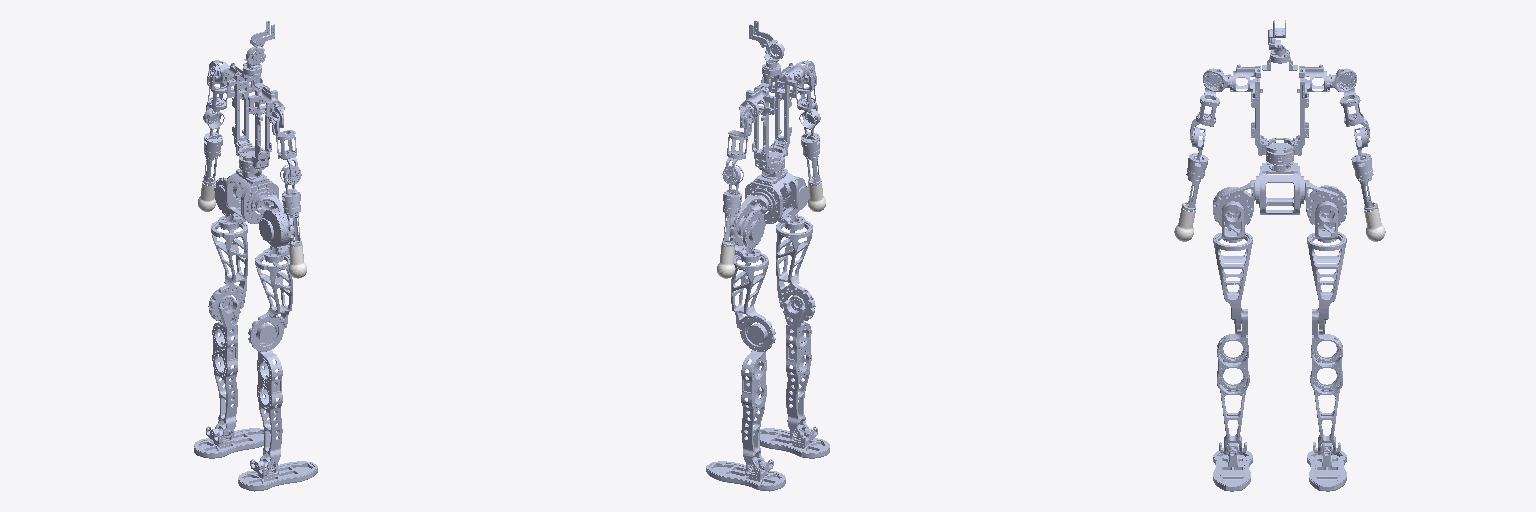
--- Facts derived from the render (not from the file) ---
Views: 3 orthographic renders of the robot side by side, from view 1: azimuth 30°, elevation 25°; view 2: azimuth 150°, elevation 25°; view 3: azimuth 270°, elevation 25°.
Robot: CB02_URDF(ECS-WK)-1 — 28 links, 27 joints (21 revolute, 6 fixed); root link base_link; default pose: all joints at 0.
Visible links, largest first — view 1: waist_yaw_link, left_leg_knee_pitch_link, right_leg_pelvic_yaw_link, right_leg_knee_pitch_link, left_leg_pelvic_yaw_link, base_link, right_leg_ankle_roll_link, left_leg_ankle_roll_link, right_leg_pelvic_pitch_link, left_elbow_pitch_link, right_elbow_pitch_link, right_shoulder_roll_link (+1 smaller); view 2: waist_yaw_link, right_leg_knee_pitch_link, left_leg_pelvic_yaw_link, left_leg_knee_pitch_link, right_leg_pelvic_yaw_link, base_link, left_leg_ankle_roll_link, right_leg_ankle_roll_link, left_leg_pelvic_pitch_link, right_elbow_pitch_link, left_elbow_pitch_link, left_shoulder_roll_link (+1 smaller); view 3: waist_yaw_link, right_leg_knee_pitch_link, left_leg_knee_pitch_link, base_link, left_leg_pelvic_yaw_link, right_leg_pelvic_yaw_link, left_leg_ankle_roll_link, right_leg_ankle_roll_link, left_leg_pelvic_pitch_link, right_leg_pelvic_pitch_link, left_leg_pelvic_roll_link, right_leg_pelvic_roll_link (+4 smaller).
Boxes of the visible links, x1,y1,x2,y2 form: waist_yaw_link: [221, 62, 284, 171]; left_leg_knee_pitch_link: [212, 295, 240, 438]; right_leg_pelvic_yaw_link: [248, 253, 292, 351]; right_leg_knee_pitch_link: [256, 323, 282, 470]; left_leg_pelvic_yaw_link: [208, 221, 247, 322]; base_link: [225, 169, 278, 223]; right_leg_ankle_roll_link: [238, 459, 317, 491]; left_leg_ankle_roll_link: [194, 426, 270, 458]; right_leg_pelvic_pitch_link: [252, 195, 293, 247]; left_elbow_pitch_link: [203, 108, 224, 156]; right_elbow_pitch_link: [280, 164, 301, 213]; right_shoulder_roll_link: [271, 112, 296, 158]; waist_yaw_link: [739, 63, 802, 171]; right_leg_knee_pitch_link: [783, 295, 811, 438]; left_leg_pelvic_yaw_link: [731, 253, 775, 351]; left_leg_knee_pitch_link: [741, 323, 767, 470]; right_leg_pelvic_yaw_link: [776, 221, 815, 322]; base_link: [745, 169, 798, 223]; left_leg_ankle_roll_link: [706, 459, 785, 491]; right_leg_ankle_roll_link: [753, 426, 829, 458]; left_leg_pelvic_pitch_link: [730, 195, 771, 248]; right_elbow_pitch_link: [799, 109, 820, 157]; left_elbow_pitch_link: [722, 165, 743, 213]; left_shoulder_roll_link: [727, 112, 752, 158]; waist_yaw_link: [1230, 49, 1329, 164]; right_leg_knee_pitch_link: [1217, 308, 1249, 454]; left_leg_knee_pitch_link: [1310, 308, 1342, 454]; base_link: [1256, 162, 1303, 214]; left_leg_pelvic_yaw_link: [1307, 232, 1346, 334]; right_leg_pelvic_yaw_link: [1213, 232, 1252, 334]; left_leg_ankle_roll_link: [1307, 442, 1346, 491]; right_leg_ankle_roll_link: [1213, 442, 1252, 491]; left_leg_pelvic_pitch_link: [1304, 180, 1346, 229]; right_leg_pelvic_pitch_link: [1213, 180, 1255, 229]; left_leg_pelvic_roll_link: [1315, 201, 1337, 239]; right_leg_pelvic_roll_link: [1222, 201, 1244, 239].
Size in the robot's own frame: 0.2748 by 0.6415 by 1.54 metres.
Meshes: 28 distinct files referenced, 28 mesh visuals loaded (28 binary STL).

robot.urdf — CB02_URDF(ECS-WK)-1:
<?xml version="1.0" encoding="utf-8"?>
<!-- This URDF was automatically created by SolidWorks to URDF Exporter! Originally created by Stephen Brawner ([email redacted]) 
     Commit Version: 1.6.0-4-g7f85cfe  Build Version: 1.6.7995.38578
     For more information, please see http://wiki.ros.org/sw_urdf_exporter -->
<robot
  name="CB02_URDF(ECS-WK)-1">
<mujoco>
  <compiler meshdir="../meshes/" balanceinertia="true" discardvisual="false"/>
</mujoco>
  <link
    name="base_link">
    <inertial>
      <origin
        xyz="-0.000299229538671325 -3.62047143596685E-06 0.0677725310109216"
        rpy="0 0 0" />
      <mass
        value="1.28818193551437" />
      <inertia
        ixx="0.00316690921128277"
        ixy="6.92856223060059E-07"
        ixz="4.77969590373017E-06"
        iyy="0.00402048593806444"
        iyz="7.46616920135298E-08"
        izz="0.00266586288994493" />
    </inertial>
    <visual>
      <origin
        xyz="0 0 0"
        rpy="0 0 0" />
      <geometry>
        <mesh
          filename="../meshes/base_link.STL" />
      </geometry>
      <material
        name="">
        <color
          rgba="0.792156862745098 0.819607843137255 0.933333333333333 1" />
      </material>
    </visual>
    <!-- <collision>
      <origin
        xyz="0 0 0"
        rpy="0 0 0" />
      <geometry>
        <mesh
          filename="../meshes/base_link.STL" />
      </geometry>
    </collision> -->
  </link>
  <link
    name="left_leg_pelvic_pitch_link">
    <inertial>
      <origin
        xyz="0.00415199717534158 0.0675309930364463 -0.0423445266545575"
        rpy="0 0 0" />
      <mass
        value="1.02810145292751" />
      <inertia
        ixx="0.00259245830022387"
        ixy="0.000206538814545208"
        ixz="-0.000148774269531376"
        iyy="0.00140327147782507"
        iyz="-0.000450861299617263"
        izz="0.00149796461534272" />
    </inertial>
    <visual>
      <origin
        xyz="0 0 0"
        rpy="0 0 0" />
      <geometry>
        <mesh
          filename="../meshes/left_leg_pelvic_pitch_link.STL" />
      </geometry>
      <material
        name="">
        <color
          rgba="0.792156862745098 0.819607843137255 0.933333333333333 1" />
      </material>
    </visual>
    <!-- <collision>
      <origin
        xyz="0 0 0"
        rpy="0 0 0" />
      <geometry>
        <mesh
          filename="../meshes/left_leg_pelvic_pitch_link.STL" />
      </geometry>
    </collision> -->
  </link>
  <joint
    name="left_leg_pelvic_pitch_joint"
    type="revolute">
    <origin
      xyz="0 0.061 0.0574999999999996"
      rpy="0 0 0" />
    <parent
      link="base_link" />
    <child
      link="left_leg_pelvic_pitch_link" />
    <axis
      xyz="0 1 0" />
    <limit
      lower="-1.9199"
      upper="1.5708"
      effort="200"
      velocity="14" />
  </joint>
  <link
    name="left_leg_pelvic_roll_link">
    <inertial>
      <origin
        xyz="0.0339552534167787 2.16783663888609E-05 -0.0448299281789375"
        rpy="0 0 0" />
      <mass
        value="0.463419741183663" />
      <inertia
        ixx="0.000999931372159789"
        ixy="-1.8828872947419E-07"
        ixz="0.000201327552606785"
        iyy="0.0010049761736978"
        iyz="-5.97979954945496E-06"
        izz="0.000395076332649214" />
    </inertial>
    <visual>
      <origin
        xyz="0 0 0"
        rpy="0 0 0" />
      <geometry>
        <mesh
          filename="../meshes/left_leg_pelvic_roll_link.STL" />
      </geometry>
      <material
        name="">
        <color
          rgba="0.792156862745098 0.819607843137255 0.933333333333333 1" />
      </material>
    </visual>
    <collision>
      <origin
        xyz="0 0 0"
        rpy="0 0 0" />
      <geometry>
        <mesh
          filename="../meshes/left_leg_pelvic_roll_link.STL" />
      </geometry>
    </collision>
  </link>
  <joint
    name="left_leg_pelvic_roll_joint"
    type="revolute">
    <origin
      xyz="-0.00280000000000061 0.0815 -0.0550000000000001"
      rpy="0 0 0" />
    <parent
      link="left_leg_pelvic_pitch_link" />
    <child
      link="left_leg_pelvic_roll_link" />
    <axis
      xyz="1 0 0" />
    <limit
      lower="-0.17453"
      upper="1.5708"
      effort="200"
      velocity="14" />
  </joint>
  <link
    name="left_leg_pelvic_yaw_link">
    <inertial>
      <origin
        xyz="-0.000136305888499362 -0.00590223552356739 -0.158219515661167"
        rpy="0 0 0" />
      <mass
        value="3.92267293403735" />
      <inertia
        ixx="0.0394236470729534"
        ixy="0.000272894500200854"
        ixz="0.00208164090542722"
        iyy="0.041421253945695"
        iyz="0.00239215153271086"
        izz="0.00723706080863267" />
    </inertial>
    <visual>
      <origin
        xyz="0 0 0"
        rpy="0 0 0" />
      <geometry>
        <mesh
          filename="../meshes/left_leg_pelvic_yaw_link.STL" />
      </geometry>
      <material
        name="">
        <color
          rgba="0.792156862745098 0.819607843137255 0.933333333333333 1" />
      </material>
    </visual>
    <collision>
      <origin
        xyz="0 0 0"
        rpy="0 0 0" />
      <geometry>
        <mesh
          filename="../meshes/left_leg_pelvic_yaw_link.STL" />
      </geometry>
    </collision>
  </link>
  <joint
    name="left_leg_pelvic_yaw_joint"
    type="revolute">
    <origin
      xyz="0 0 -0.0975000000000059"
      rpy="0 0 0" />
    <parent
      link="left_leg_pelvic_roll_link" />
    <child
      link="left_leg_pelvic_yaw_link" />
    <axis
      xyz="0 0 1" />
    <limit
      lower="-1.5708"
      upper="1.5708"
      effort="110"
      velocity="14" />
  </joint>
  <link
    name="left_leg_knee_pitch_link">
    <inertial>
      <origin
        xyz="0.00493576863344474 -0.00709173150506062 -0.201241298110284"
        rpy="0 0 0" />
      <mass
        value="3.70179178417344" />
      <inertia
        ixx="0.0691672037608606"
        ixy="7.28789236085487E-05"
        ixz="-0.00228272523363831"
        iyy="0.0669937646599967"
        iyz="-0.00429349893012385"
        izz="0.00387245136575241" />
    </inertial>
    <visual>
      <origin
        xyz="0 0 0"
        rpy="0 0 0" />
      <geometry>
        <mesh
          filename="../meshes/left_leg_knee_pitch_link.STL" />
      </geometry>
      <material
        name="">
        <color
          rgba="0.792156862745098 0.819607843137255 0.933333333333333 1" />
      </material>
    </visual>
    <!-- <collision>
      <origin
        xyz="0 0 0"
        rpy="0 0 0" />
      <geometry>
        <mesh
          filename="../meshes/left_leg_knee_pitch_link.STL" />
      </geometry>
    </collision> -->
    <collision>
      <origin xyz="0.0 0.001 -0.18" rpy="0 0 0"/>
      <geometry>
        <box size="0.05 0.07 0.19"/>
      </geometry>
    </collision>
    <collision>
      <origin xyz="0.02 0.00 -0.35" rpy="0 0 0"/>
      <geometry>
        <box size="0.03 0.06 0.1"/>
      </geometry>
    </collision>
  </link>
  <joint
    name="left_leg_knee_pitch_joint"
    type="revolute">
    <origin
      xyz="-0.0200000000000002 0 -0.273499999999999"
      rpy="0 0 0" />
    <parent
      link="left_leg_pelvic_yaw_link" />
    <child
      link="left_leg_knee_pitch_link" />
    <axis
      xyz="0 1 0" />
    <limit
      lower="0"
      upper="2.5307"
      effort="200"
      velocity="14" />
  </joint>
  <link
    name="left_leg_ankle_pitch_link">
    <inertial>
      <origin
        xyz="1.5259977656501E-10 -3.63095623931442E-06 9.77516068090267E-10"
        rpy="0 0 0" />
      <mass
        value="0.0573757039077953" />
      <inertia
        ixx="1.40830804022268E-05"
        ixy="-1.14832886337571E-12"
        ixz="-3.93273685825358E-15"
        iyy="8.16516434684493E-06"
        iyz="-5.93396292117414E-15"
        izz="9.60484955452434E-06" />
    </inertial>
    <visual>
      <origin
        xyz="0 0 0"
        rpy="0 0 0" />
      <geometry>
        <mesh
          filename="../meshes/left_leg_ankle_pitch_link.STL" />
      </geometry>
      <material
        name="">
        <color
          rgba="0.792156862745098 0.819607843137255 0.933333333333333 1" />
      </material>
    </visual>
    <!-- <collision>
      <origin
        xyz="0 0 0"
        rpy="0 0 0" />
      <geometry>
        <mesh
          filename="../meshes/left_leg_ankle_pitch_link.STL" />
      </geometry>
    </collision> -->
  </link>
  <joint
    name="left_leg_ankle_pitch_joint"
    type="revolute">
    <origin
      xyz="0 0 -0.453000000000091"
      rpy="0 0 0" />
    <parent
      link="left_leg_knee_pitch_link" />
    <child
      link="left_leg_ankle_pitch_link" />
    <axis
      xyz="0 1 0" />
    <limit
      lower="-0.87266"
      upper="0.50614"
      effort="100"
      velocity="14" />
  </joint>
  <link
    name="left_leg_ankle_roll_link">
    <inertial>
      <origin
        xyz="0.026746 0.0014465 -0.050585"
        rpy="0 0 0" />
      <mass
        value="0.84968" />
      <inertia
        ixx="0.00087779"
        ixy="8.3902E-05"
        ixz="-1.5511E-05"
        iyy="0.0044315"
        iyz="2.071E-07"
        izz="0.0052251" />
    </inertial>
    <visual>
      <origin
        xyz="0 0 0"
        rpy="0 0 0" />
      <geometry>
        <mesh
          filename="../meshes/left_leg_ankle_roll_link.STL" />
      </geometry>
      <material
        name="">
        <color
          rgba="0.79216 0.81961 0.93333 1" />
      </material>
    </visual>
    <!-- <collision>
      <origin
        xyz="0 0 0"
        rpy="0 0 0" />
      <geometry>
        <mesh
          filename="../meshes/left_leg_ankle_roll_link.STL" />
      </geometry>
    </collision> -->
    <collision>
      <origin
        xyz="0.03 0 -0.05"
        rpy="0 0 0" />
      <geometry>
        <box size="0.23 0.08 0.02" />
      </geometry>
    </collision>
  </link>
  <joint
    name="left_leg_ankle_roll_joint"
    type="revolute">
    <origin
      xyz="0 0 0"
      rpy="0 0 0" />
    <parent
      link="left_leg_ankle_pitch_link" />
    <child
      link="left_leg_ankle_roll_link" />
    <axis
      xyz="1 0 0" />
    <limit
      lower="-0.50614"
      upper="0.50614"
      effort="100"
      velocity="14" />
  </joint>
  <link
    name="right_leg_pelvic_pitch_link">
    <inertial>
      <origin
        xyz="0.00726567129464715 -0.0731362644570799 -0.047417234005796"
        rpy="0 0 0" />
      <mass
        value="1.71831066939471" />
      <inertia
        ixx="0.00393694868879678"
        ixy="-0.000206670737854624"
        ixz="-0.000148880809322412"
        iyy="0.00214229170405629"
        iyz="0.000450120067182824"
        izz="0.00224860958359422" />
    </inertial>
    <visual>
      <origin
        xyz="0 0 0"
        rpy="0 0 0" />
      <geometry>
        <mesh
          filename="../meshes/right_leg_pelvic_pitch_link.STL" />
      </geometry>
      <material
        name="">
        <color
          rgba="0.792156862745098 0.819607843137255 0.933333333333333 1" />
      </material>
    </visual>
    <!-- <collision>
      <origin
        xyz="0 0 0"
        rpy="0 0 0" />
      <geometry>
        <mesh
          filename="../meshes/right_leg_pelvic_pitch_link.STL" />
      </geometry>
    </collision> -->
  </link>
  <joint
    name="right_leg_pelvic_pitch_joint"
    type="revolute">
    <origin
      xyz="0 -0.0609999999999999 0.0575000000000002"
      rpy="0 0 0" />
    <parent
      link="base_link" />
    <child
      link="right_leg_pelvic_pitch_link" />
    <axis
      xyz="0 1 0" />
    <limit
      lower="-1.9199"
      upper="1.5708"
      effort="200"
      velocity="14" />
  </joint>
  <link
    name="right_leg_pelvic_roll_link">
    <inertial>
      <origin
        xyz="0.0339552534167782 2.16783663878339E-05 -0.0448299281789417"
        rpy="0 0 0" />
      <mass
        value="0.463419741183666" />
      <inertia
        ixx="0.000999931372159792"
        ixy="-1.88288729475105E-07"
        ixz="0.000201327552606789"
        iyy="0.0010049761736978"
        iyz="-5.97979954945681E-06"
        izz="0.000395076332649218" />
    </inertial>
    <visual>
      <origin
        xyz="0 0 0"
        rpy="0 0 0" />
      <geometry>
        <mesh
          filename="../meshes/right_leg_pelvic_roll_link.STL" />
      </geometry>
      <material
        name="">
        <color
          rgba="0.792156862745098 0.819607843137255 0.933333333333333 1" />
      </material>
    </visual>
    <collision>
      <origin
        xyz="0 0 0"
        rpy="0 0 0" />
      <geometry>
        <mesh
          filename="../meshes/right_leg_pelvic_roll_link.STL" />
      </geometry>
    </collision>
  </link>
  <joint
    name="right_leg_pelvic_roll_joint"
    type="revolute">
    <origin
      xyz="-0.0028000000000013 -0.0814999999999976 -0.0549999999999963"
      rpy="0 0 0" />
    <parent
      link="right_leg_pelvic_pitch_link" />
    <child
      link="right_leg_pelvic_roll_link" />
    <axis
      xyz="1 0 0" />
    <limit
      lower="-1.5708"
      upper="0.17453"
      effort="200"
      velocity="14" />
  </joint>
  <link
    name="right_leg_pelvic_yaw_link">
    <inertial>
      <origin
        xyz="-0.000136621018023519 0.00610545194401305 -0.15822009503971"
        rpy="0 0 0" />
      <mass
        value="4.00564660690577" />
      <inertia
        ixx="0.0402471506744927"
        ixy="-0.00031695021367323"
        ixz="0.00212548860780222"
        iyy="0.0422973565133956"
        iyz="-0.00232823769342471"
        izz="0.00737984648109567" />
    </inertial>
    <visual>
      <origin
        xyz="0 0 0"
        rpy="0 0 0" />
      <geometry>
        <mesh
          filename="../meshes/right_leg_pelvic_yaw_link.STL" />
      </geometry>
      <material
        name="">
        <color
          rgba="0.792156862745098 0.819607843137255 0.933333333333333 1" />
      </material>
    </visual>
    <collision>
      <origin
        xyz="0 0 0"
        rpy="0 0 0" />
      <geometry>
        <mesh
          filename="../meshes/right_leg_pelvic_yaw_link.STL" />
      </geometry>
    </collision>
  </link>
  <joint
    name="right_leg_pelvic_yaw_joint"
    type="revolute">
    <origin
      xyz="0 0 -0.0975000000000075"
      rpy="0 0 0" />
    <parent
      link="right_leg_pelvic_roll_link" />
    <child
      link="right_leg_pelvic_yaw_link" />
    <axis
      xyz="0 0 1" />
    <limit
      lower="-1.5708"
      upper="1.5708"
      effort="110"
      velocity="14" />
  </joint>
  <link
    name="right_leg_knee_pitch_link">
    <inertial>
      <origin
        xyz="0.00493554878574887 0.00709174155723893 -0.201240554636402"
        rpy="0 0 0" />
      <mass
        value="1.24759478576868" />
      <inertia
        ixx="0.0233109164242657"
        ixy="-2.45577642316228E-05"
        ixz="-0.000769314099587234"
        iyy="0.0225784148335157"
        iyz="0.00144700233126429"
        izz="0.00130510213303884" />
    </inertial>
    <visual>
      <origin
        xyz="0 0 0"
        rpy="0 0 0" />
      <geometry>
        <mesh
          filename="../meshes/right_leg_knee_pitch_link.STL" />
      </geometry>
      <material
        name="">
        <color
          rgba="0.792156862745098 0.819607843137255 0.933333333333333 1" />
      </material>
    </visual>
    <!-- <collision>
      <origin
        xyz="0 0 0"
        rpy="0 0 0" />
      <geometry>
        <mesh
          filename="../meshes/right_leg_knee_pitch_link.STL" />
      </geometry>
    </collision> -->
    <collision>
      <origin xyz="0.0 -0.001 -0.18" rpy="0 0 0"/>
      <geometry>
        <box size="0.05 0.07 0.19"/>
      </geometry>
    </collision>
    <collision>
      <origin xyz="0.02 0.00 -0.35" rpy="0 0 0"/>
      <geometry>
        <box size="0.03 0.06 0.1"/>
      </geometry>
    </collision>
  </link>
  <joint
    name="right_leg_knee_pitch_joint"
    type="revolute">
    <origin
      xyz="-0.0200000000000365 0 -0.273500000000063"
      rpy="0 0 0" />
    <parent
      link="right_leg_pelvic_yaw_link" />
    <child
      link="right_leg_knee_pitch_link" />
    <axis
      xyz="0 1 0" />
    <limit
      lower="0"
      upper="2.5307"
      effort="200"
      velocity="14" />
  </joint>
  <link
    name="right_leg_ankle_pitch_link">
    <inertial>
      <origin
        xyz="1.52599637787132E-10 -3.63095623934218E-06 9.77515957067965E-10"
        rpy="0 0 0" />
      <mass
        value="0.0573757039077936" />
      <inertia
        ixx="1.40830804022267E-05"
        ixy="-1.14832884733411E-12"
        ixz="-3.93251081621409E-15"
        iyy="8.16516434684486E-06"
        iyz="-5.93395719766627E-15"
        izz="9.60484955452411E-06" />
    </inertial>
    <visual>
      <origin
        xyz="0 0 0"
        rpy="0 0 0" />
      <geometry>
        <mesh
          filename="../meshes/right_leg_ankle_pitch_link.STL" />
      </geometry>
      <material
        name="">
        <color
          rgba="0.792156862745098 0.819607843137255 0.933333333333333 1" />
      </material>
    </visual>
    <!-- <collision>
      <origin
        xyz="0 0 0"
        rpy="0 0 0" />
      <geometry>
        <mesh
          filename="../meshes/right_leg_ankle_pitch_link.STL" />
      </geometry>
    </collision> -->
  </link>
  <joint
    name="right_leg_ankle_pitch_joint"
    type="revolute">
    <origin
      xyz="0 0 -0.45300000000003"
      rpy="0 0 0" />
    <parent
      link="right_leg_knee_pitch_link" />
    <child
      link="right_leg_ankle_pitch_link" />
    <axis
      xyz="0 1 0" />
    <limit
      lower="-0.87266"
      upper="0.50614"
      effort="100"
      velocity="14" />
  </joint>
  <link
    name="right_leg_ankle_roll_link">
    <inertial>
      <origin
        xyz="0.026743 -0.0014476 -0.050585"
        rpy="0 0 0" />
      <mass
        value="0.84963" />
      <inertia
        ixx="0.00087771"
        ixy="-8.3823E-05"
        ixz="-1.5504E-05"
        iyy="0.0044312"
        iyz="-2.1927E-07"
        izz="0.0052247" />
    </inertial>
    <visual>
      <origin
        xyz="0 0 0"
        rpy="0 0 0" />
      <geometry>
        <mesh
          filename="../meshes/right_leg_ankle_roll_link.STL" />
      </geometry>
      <material
        name="">
        <color
          rgba="0.79216 0.81961 0.93333 1" />
      </material>
    </visual>
    <!-- <collision>
      <origin
        xyz="0 0 0"
        rpy="0 0 0" />
      <geometry>
        <mesh
          filename="../meshes/right_leg_ankle_roll_link.STL" />
      </geometry>
    </collision> -->
    <collision>
      <origin
        xyz="0.03 0 -0.05"
        rpy="0 0 0" />
      <geometry>
        <box size="0.23 0.08 0.02" />
      </geometry>
    </collision>
  </link>
  <joint
    name="right_leg_ankle_roll_joint"
    type="revolute">
    <origin
      xyz="0 0 0"
      rpy="0 0 0" />
    <parent
      link="right_leg_ankle_pitch_link" />
    <child
      link="right_leg_ankle_roll_link" />
    <axis
      xyz="1 0 0" />
    <limit
      lower="-0.50614"
      upper="0.50614"
      effort="100"
      velocity="14" />
  </joint>
  <link
    name="waist_yaw_link">
    <inertial>
      <origin
        xyz="0.000130975729590561 5.81562727818721E-05 0.149702237906225"
        rpy="0 0 0" />
      <mass
        value="13.9790042253896" />
      <inertia
        ixx="0.0479343229089796"
        ixy="1.68610154597791E-08"
        ixz="-3.52743438368736E-05"
        iyy="0.0475353024914455"
        iyz="1.89862120412491E-05"
        izz="0.0121785212445957" />
    </inertial>
    <visual>
      <origin
        xyz="0 0 0"
        rpy="0 0 0" />
      <geometry>
        <mesh
          filename="../meshes/waist_yaw_link.STL" />
      </geometry>
      <material
        name="">
        <color
          rgba="0.792156862745098 0.819607843137255 0.933333333333333 1" />
      </material>
    </visual>
    <!-- <collision>
      <origin
        xyz="0 0 0"
        rpy="0 0 0" />
      <geometry>
        <mesh
          filename="../meshes/waist_yaw_link.STL" />
      </geometry>
    </collision> -->
    <collision>
      <origin
        xyz="0.0 0 0.12"
        rpy="0 0 0" />
      <geometry>
        <box size="0.15 0.2 0.3" />
      </geometry>
    </collision>
  </link>
  <joint
    name="waist_yaw_joint"
    type="revolute">
    <origin
      xyz="0 0 0.154238635424338"
      rpy="0 0 0" />
    <parent
      link="base_link" />
    <child
      link="waist_yaw_link" />
    <axis
      xyz="0 0 -1" />
    <limit
      lower="-1.5708"
      upper="1.5708"
      effort="100"
      velocity="14" />
  </joint>
  <link
    name="head_yaw_link">
    <inertial>
      <origin
        xyz="-0.00078261750157486 -0.0155152746638738 0.0308213534764317"
        rpy="0 0 0" />
      <mass
        value="0.0797810246710037" />
      <inertia
        ixx="5.09072412613172E-05"
        ixy="1.14871329470101E-07"
        ixz="-4.53051948435109E-06"
        iyy="6.4003616577122E-05"
        iyz="-1.30437072443571E-05"
        izz="3.75298494058182E-05" />
    </inertial>
    <visual>
      <origin
        xyz="0 0 0"
        rpy="0 0 0" />
      <geometry>
        <mesh
          filename="../meshes/head_yaw_link.STL" />
      </geometry>
      <material
        name="">
        <color
          rgba="0.792156862745098 0.819607843137255 0.933333333333333 1" />
      </material>
    </visual>
    <collision>
      <origin
        xyz="0 0 0"
        rpy="0 0 0" />
      <geometry>
        <mesh
          filename="../meshes/head_yaw_link.STL" />
      </geometry>
    </collision>
  </link>
  <joint
    name="head_yaw_joint"
    type="fixed">
    <origin
      xyz="0 0 0.362300000000225"
      rpy="0 0 0" />
    <parent
      link="waist_yaw_link" />
    <child
      link="head_yaw_link" />
    <axis
      xyz="0 0 1" />
    <limit
      lower="-1.5708"
      upper="1.5708"
      effort="60"
      velocity="14" />
  </joint>
  <link
    name="head_pitch_link">
    <inertial>
      <origin
        xyz="0.0245170340311457 -0.00968261807779861 0.0340309435450875"
        rpy="0 0 0" />
      <mass
        value="0.473264225353606" />
      <inertia
        ixx="0.00018500094793612"
        ixy="2.10005092713277E-05"
        ixz="6.51575155191851E-05"
        iyy="0.000232274817193635"
        iyz="4.52688012621254E-05"
        izz="0.000195275991160167" />
    </inertial>
    <visual>
      <origin
        xyz="0 0 0"
        rpy="0 0 0" />
      <geometry>
        <mesh
          filename="../meshes/head_pitch_link.STL" />
      </geometry>
      <material
        name="">
        <color
          rgba="0.792156862745098 0.819607843137255 0.933333333333333 1" />
      </material>
    </visual>
    <collision>
      <origin
        xyz="0 0 0"
        rpy="0 0 0" />
      <geometry>
        <mesh
          filename="../meshes/head_pitch_link.STL" />
      </geometry>
    </collision>
  </link>
  <joint
    name="head_pitch_joint"
    type="fixed">
    <origin
      xyz="0 0 0.046"
      rpy="0 0 0" />
    <parent
      link="head_yaw_link" />
    <child
      link="head_pitch_link" />
    <axis
      xyz="0 1 0" />
    <limit
      lower="-0.2618"
      upper="0.5236"
      effort="60"
      velocity="14" />
  </joint>
  <link
    name="left_shoulder_pitch_link">
    <inertial>
      <origin
        xyz="-0.0102288981635855 0.036332751832787 0.000394674244794058"
        rpy="0 0 0" />
      <mass
        value="0.649287739116578" />
      <inertia
        ixx="0.000415915126086713"
        ixy="-6.22789916439101E-05"
        ixz="-3.51530250512302E-07"
        iyy="0.000283775504862817"
        iyz="-3.92499741198903E-06"
        izz="0.000311828240069111" />
    </inertial>
    <visual>
      <origin
        xyz="0 0 0"
        rpy="0 0 0" />
      <geometry>
        <mesh
          filename="../meshes/left_shoulder_pitch_link.STL" />
      </geometry>
      <material
        name="">
        <color
          rgba="0.792156862745098 0.819607843137255 0.933333333333333 1" />
      </material>
    </visual>
    <!-- <collision>
      <origin
        xyz="0 0 0"
        rpy="0 0 0" />
      <geometry>
        <mesh
          filename="../meshes/left_shoulder_pitch_link.STL" />
      </geometry>
    </collision> -->
  </link>
  <joint
    name="left_shoulder_pitch_joint"
    type="revolute">
    <origin
      xyz="0 0.14500020317258 0.267300000000226"
      rpy="0 0 0" />
    <parent
      link="waist_yaw_link" />
    <child
      link="left_shoulder_pitch_link" />
    <axis
      xyz="0 1 0" />
    <limit
      lower="-3.1416"
      upper="1.0472"
      effort="80"
      velocity="26" />
  </joint>
  <link
    name="left_shoulder_roll_link">
    <inertial>
      <origin
        xyz="-0.00770404081087766 -0.000683111095291983 -0.0786608503027241"
        rpy="0 0 0" />
      <mass
        value="0.195328921491811" />
      <inertia
        ixx="0.000158275107308962"
        ixy="7.47210832592629E-08"
        ixz="-2.59221063657642E-05"
        iyy="0.000185087021548126"
        iyz="3.31442954159944E-06"
        izz="0.000122583127501806" />
    </inertial>
    <visual>
      <origin
        xyz="0 0 0"
        rpy="0 0 0" />
      <geometry>
        <mesh
          filename="../meshes/left_shoulder_roll_link.STL" />
      </geometry>
      <material
        name="">
        <color
          rgba="0.792156862745098 0.819607843137255 0.933333333333333 1" />
      </material>
    </visual>
    <collision>
      <origin
        xyz="0 0 0"
        rpy="0 0 0" />
      <geometry>
        <mesh
          filename="../meshes/left_shoulder_roll_link.STL" />
      </geometry>
    </collision>
  </link>
  <joint
    name="left_shoulder_roll_joint"
    type="revolute">
    <origin
      xyz="0 0.057 0"
      rpy="0.1745 0 0" />
    <parent
      link="left_shoulder_pitch_link" />
    <child
      link="left_shoulder_roll_link" />
    <axis
      xyz="1 0 0" />
    <limit
      lower="-0.3491"
      upper="3.1416"
      effort="80"
      velocity="26" />
  </joint>
  <link
    name="left_shoulder_yaw_link">
    <inertial>
      <origin
        xyz="-4.41757350049006E-06 0.0210935070028324 -0.0276139730988554"
        rpy="0 0 0" />
      <mass
        value="0.0243504547014443" />
      <inertia
        ixx="1.73617720811823E-05"
        ixy="-1.79199844008269E-08"
        ixz="1.96437152688012E-08"
        iyy="1.42117709489993E-05"
        iyz="-4.91030664906597E-06"
        izz="7.93910941658811E-06" />
    </inertial>
    <visual>
      <origin
        xyz="0 0 0"
        rpy="0 0 0" />
      <geometry>
        <mesh
          filename="../meshes/left_shoulder_yaw_link.STL" />
      </geometry>
      <material
        name="">
        <color
          rgba="0.792156862745098 0.819607843137255 0.933333333333333 1" />
      </material>
    </visual>
    <collision>
      <origin
        xyz="0 0 0"
        rpy="0 0 0" />
      <geometry>
        <mesh
          filename="../meshes/left_shoulder_yaw_link.STL" />
      </geometry>
    </collision>
  </link>
  <joint
    name="left_shoulder_yaw_joint"
    type="revolute">
    <origin
      xyz="0 0 -0.1315"
      rpy="0 0 0" />
    <parent
      link="left_shoulder_roll_link" />
    <child
      link="left_shoulder_yaw_link" />
    <axis
      xyz="0 0 1" />
    <limit
      lower="-1.5708"
      upper="1.5708"
      effort="16"
      velocity="13.6" />
  </joint>
  <link
    name="left_elbow_pitch_link">
    <inertial>
      <origin
        xyz="1.6328064642989E-05 0.002971128311301 -0.082526184053724"
        rpy="0 0 0" />
      <mass
        value="0.435303751733877" />
      <inertia
        ixx="0.000149576804041486"
        ixy="-2.42022030866707E-08"
        ixz="-1.20075751804479E-07"
        iyy="0.000159118036175105"
        iyz="1.14124996330168E-05"
        izz="0.000171422877357619" />
    </inertial>
    <visual>
      <origin
        xyz="0 0 0"
        rpy="0 0 0" />
      <geometry>
        <mesh
          filename="../meshes/left_elbow_pitch_link.STL" />
      </geometry>
      <material
        name="">
        <color
          rgba="0.792156862745098 0.819607843137255 0.933333333333333 1" />
      </material>
    </visual>
    <collision>
      <origin
        xyz="0 0 0"
        rpy="0 0 0" />
      <geometry>
        <mesh
          filename="../meshes/left_elbow_pitch_link.STL" />
      </geometry>
    </collision>
  </link>
  <joint
    name="left_elbow_pitch_joint"
    type="revolute">
    <origin
      xyz="0 0 -0.0609999999999984"
      rpy="0 0 0" />
    <parent
      link="left_shoulder_yaw_link" />
    <child
      link="left_elbow_pitch_link" />
    <axis
      xyz="0 1 0" />
    <limit
      lower="-1.8675"
      upper="0"
      effort="80"
      velocity="26" />
  </joint>
  <link
    name="left_wrist_yaw_link">
    <inertial>
      <origin
        xyz="0.000185257071954116 -0.00334205486925238 -0.0396424773439387"
        rpy="0 0 0" />
      <mass
        value="0.124402127918901" />
      <inertia
        ixx="0.000126453951425612"
        ixy="-3.6745552452735E-07"
        ixz="9.49090983815282E-08"
        iyy="0.000133394903894484"
        iyz="-1.23101362709461E-06"
        izz="3.63793989816123E-05" />
    </inertial>
    <visual>
      <origin
        xyz="0 0 0"
        rpy="0 0 0" />
      <geometry>
        <mesh
          filename="../meshes/left_wrist_yaw_link.STL" />
      </geometry>
      <material
        name="">
        <color
          rgba="0.792156862745098 0.819607843137255 0.933333333333333 1" />
      </material>
    </visual>
    <collision>
      <origin
        xyz="0 0 0"
        rpy="0 0 0" />
      <geometry>
        <mesh
          filename="../meshes/left_wrist_yaw_link.STL" />
      </geometry>
    </collision>
  </link>
  <joint
    name="left_wrist_yaw_joint"
    type="fixed">
    <origin
      xyz="0 0 -0.131"
      rpy="0 0 0" />
    <parent
      link="left_elbow_pitch_link" />
    <child
      link="left_wrist_yaw_link" />
    <axis
      xyz="0 0 1" />
    <limit
      lower="-1.5708"
      upper="1.5708"
      effort="16"
      velocity="13.6" />
  </joint>
  <link
    name="left_hand_link">
    <inertial>
      <origin
        xyz="3.3309E-11 -7.701E-11 -0.062047"
        rpy="0 0 0" />
      <mass
        value="0.086038" />
      <inertia
        ixx="0.00011733"
        ixy="7.1943E-14"
        ixz="8.0962E-14"
        iyy="0.00011733"
        iyz="-3.1589E-13"
        izz="4.0681E-05" />
    </inertial>
    <visual>
      <origin
        xyz="0 0 0"
        rpy="0 0 0" />
      <geometry>
        <mesh
          filename="../meshes/left_hand_link.STL" />
      </geometry>
      <material
        name="">
        <color
          rgba="1 1 1 1" />
      </material>
    </visual>
    <collision>
      <origin
        xyz="0 0 0"
        rpy="0 0 0" />
      <geometry>
        <mesh
          filename="../meshes/left_hand_link.STL" />
      </geometry>
    </collision>
  </link>
  <joint
    name="left_hand_joint"
    type="fixed">
    <origin
      xyz="0 0 -0.1"
      rpy="0 0 0" />
    <parent
      link="left_wrist_yaw_link" />
    <child
      link="left_hand_link" />
    <axis
      xyz="0 0 -1" />
    <limit
      lower="0"
      upper="0"
      effort="0"
      velocity="0" />
  </joint>
  <link
    name="right_shoulder_pitch_link">
    <inertial>
      <origin
        xyz="-0.0101949007442382 -0.0363044687489536 0.000373545372716499"
        rpy="0 0 0" />
      <mass
        value="0.15551625340884" />
      <inertia
        ixx="9.96342405358781E-05"
        ixy="1.49105317436426E-05"
        ixz="-4.28186856772639E-08"
        iyy="6.79862472881885E-05"
        iyz="1.03484535611391E-06"
        izz="7.46534736176781E-05" />
    </inertial>
    <visual>
      <origin
        xyz="0 0 0"
        rpy="0 0 0" />
      <geometry>
        <mesh
          filename="../meshes/right_shoulder_pitch_link.STL" />
      </geometry>
      <material
        name="">
        <color
          rgba="0.792156862745098 0.819607843137255 0.933333333333333 1" />
      </material>
    </visual>
    <!-- <collision>
      <origin
        xyz="0 0 0"
        rpy="0 0 0" />
      <geometry>
        <mesh
          filename="../meshes/right_shoulder_pitch_link.STL" />
      </geometry>
    </collision> -->
  </link>
  <joint
    name="right_shoulder_pitch_joint"
    type="revolute">
    <origin
      xyz="0 -0.14499979682742 0.267300000000224"
      rpy="0 0 0" />
    <parent
      link="waist_yaw_link" />
    <child
      link="right_shoulder_pitch_link" />
    <axis
      xyz="0 1 0" />
    <limit
      lower="-3.1416"
      upper="1.0472"
      effort="80"
      velocity="26" />
  </joint>
  <link
    name="right_shoulder_roll_link">
    <inertial>
      <origin
        xyz="-0.00770403051599989 0.000639288818542638 -0.0786608502872567"
        rpy="0 0 0" />
      <mass
        value="0.195463682958999" />
      <inertia
        ixx="0.000158384304595977"
        ixy="7.47726334801112E-08"
        ixz="-2.59399595056499E-05"
        iyy="0.000185214716910364"
        iyz="-3.50783853348123E-06"
        izz="0.000122667700118889" />
    </inertial>
    <visual>
      <origin
        xyz="0 0 0"
        rpy="0 0 0" />
      <geometry>
        <mesh
          filename="../meshes/right_shoulder_roll_link.STL" />
      </geometry>
      <material
        name="">
        <color
          rgba="0.792156862745098 0.819607843137255 0.933333333333333 1" />
      </material>
    </visual>
    <collision>
      <origin
        xyz="0 0 0"
        rpy="0 0 0" />
      <geometry>
        <mesh
          filename="../meshes/right_shoulder_roll_link.STL" />
      </geometry>
    </collision>
  </link>
  <joint
    name="right_shoulder_roll_joint"
    type="revolute">
    <origin
      xyz="0 -0.057 0"
      rpy="-0.1745 0 0" />
    <parent
      link="right_shoulder_pitch_link" />
    <child
      link="right_shoulder_roll_link" />
    <axis
      xyz="1 0 0" />
    <limit
      lower="-3.1416"
      upper="0.3491"
      effort="80"
      velocity="26" />
  </joint>
  <link
    name="right_shoulder_yaw_link">
    <inertial>
      <origin
        xyz="4.41758497443084E-06 -0.0210935070120448 -0.0276139731176274"
        rpy="0 0 0" />
      <mass
        value="0.0243504547323869" />
      <inertia
        ixx="1.73617720918112E-05"
        ixy="-1.79199860744454E-08"
        ixz="-1.96437218684087E-08"
        iyy="1.42117709584661E-05"
        iyz="4.91030665301275E-06"
        izz="7.93910941972198E-06" />
    </inertial>
    <visual>
      <origin
        xyz="0 0 0"
        rpy="0 0 0" />
      <geometry>
        <mesh
          filename="../meshes/right_shoulder_yaw_link.STL" />
      </geometry>
      <material
        name="">
        <color
          rgba="0.792156862745098 0.819607843137255 0.933333333333333 1" />
      </material>
    </visual>
    <collision>
      <origin
        xyz="0 0 0"
        rpy="0 0 0" />
      <geometry>
        <mesh
          filename="../meshes/right_shoulder_yaw_link.STL" />
      </geometry>
    </collision>
  </link>
  <joint
    name="right_shoulder_yaw_joint"
    type="revolute">
    <origin
      xyz="0 0 -0.1315"
      rpy="0 0 0" />
    <parent
      link="right_shoulder_roll_link" />
    <child
      link="right_shoulder_yaw_link" />
    <axis
      xyz="0 0 1" />
    <limit
      lower="-1.5708"
      upper="1.5708"
      effort="16"
      velocity="13.6" />
  </joint>
  <link
    name="right_elbow_pitch_link">
    <inertial>
      <origin
        xyz="-1.63280647687261E-05 -0.00297112831130217 -0.0825261840537228"
        rpy="0 0 0" />
      <mass
        value="0.435399198132512" />
      <inertia
        ixx="0.000149609600835009"
        ixy="-2.42075097448209E-08"
        ixz="1.20102080103402E-07"
        iyy="0.000159152925016403"
        iyz="-1.14150019822043E-05"
        izz="0.000171460464206394" />
    </inertial>
    <visual>
      <origin
        xyz="0 0 0"
        rpy="0 0 0" />
      <geometry>
        <mesh
          filename="../meshes/right_elbow_pitch_link.STL" />
      </geometry>
      <material
        name="">
        <color
          rgba="0.792156862745098 0.819607843137255 0.933333333333333 1" />
      </material>
    </visual>
    <collision>
      <origin
        xyz="0 0 0"
        rpy="0 0 0" />
      <geometry>
        <mesh
          filename="../meshes/right_elbow_pitch_link.STL" />
      </geometry>
    </collision>
  </link>
  <joint
    name="right_elbow_pitch_joint"
    type="revolute">
    <origin
      xyz="0 0 -0.0610000000000009"
      rpy="0 0 0" />
    <parent
      link="right_shoulder_yaw_link" />
    <child
      link="right_elbow_pitch_link" />
    <axis
      xyz="0 1 0" />
    <limit
      lower="-1.8675"
      upper="0"
      effort="80"
      velocity="26" />
  </joint>
  <link
    name="right_wrist_yaw_link">
    <inertial>
      <origin
        xyz="-0.00018526 0.0033421 -0.042642"
        rpy="0 0 0" />
      <mass
        value="0.1244" />
      <inertia
        ixx="0.00012645"
        ixy="-3.6746E-07"
        ixz="-9.4909E-08"
        iyy="0.00013339"
        iyz="1.231E-06"
        izz="3.6379E-05" />
    </inertial>
    <visual>
      <origin
        xyz="0 0 0"
        rpy="0 0 0" />
      <geometry>
        <mesh
          filename="../meshes/right_wrist_yaw_link.STL" />
      </geometry>
      <material
        name="">
        <color
          rgba="0.79216 0.81961 0.93333 1" />
      </material>
    </visual>
    <collision>
      <origin
        xyz="0 0 0"
        rpy="0 0 0" />
      <geometry>
        <mesh
          filename="../meshes/right_wrist_yaw_link.STL" />
      </geometry>
    </collision>
  </link>
  <joint
    name="right_wrist_yaw_joint"
    type="fixed">
    <origin
      xyz="0 0 -0.128"
      rpy="0 0 0" />
    <parent
      link="right_elbow_pitch_link" />
    <child
      link="right_wrist_yaw_link" />
    <axis
      xyz="0 0 1" />
    <limit
      lower="-1.5708"
      upper="1.5708"
      effort="16"
      velocity="13.6" />
  </joint>
  <link
    name="right_hand_link">
    <inertial>
      <origin
        xyz="-3.2765E-11 7.7218E-11 -0.062047"
        rpy="0 0 0" />
      <mass
        value="0.086038" />
      <inertia
        ixx="0.00011733"
        ixy="7.2283E-14"
        ixz="-7.9053E-14"
        iyy="0.00011733"
        iyz="3.1639E-13"
        izz="4.0681E-05" />
    </inertial>
    <visual>
      <origin
        xyz="0 0 0"
        rpy="0 0 0" />
      <geometry>
        <mesh
          filename="../meshes/right_hand_link.STL" />
      </geometry>
      <material
        name="">
        <color
          rgba="1 1 1 1" />
      </material>
    </visual>
    <collision>
      <origin
        xyz="0 0 0"
        rpy="0 0 0" />
      <geometry>
        <mesh
          filename="../meshes/right_hand_link.STL" />
      </geometry>
    </collision>
  </link>
  <joint
    name="right_hand_joint"
    type="fixed">
    <origin
      xyz="0 0 -0.103"
      rpy="0 0 0" />
    <parent
      link="right_wrist_yaw_link" />
    <child
      link="right_hand_link" />
    <axis
      xyz="0 0 1" />
    <limit
      lower="0"
      upper="0"
      effort="0"
      velocity="0" />
  </joint>
</robot>
